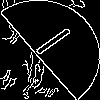I: (25, 25, 74, 64)
